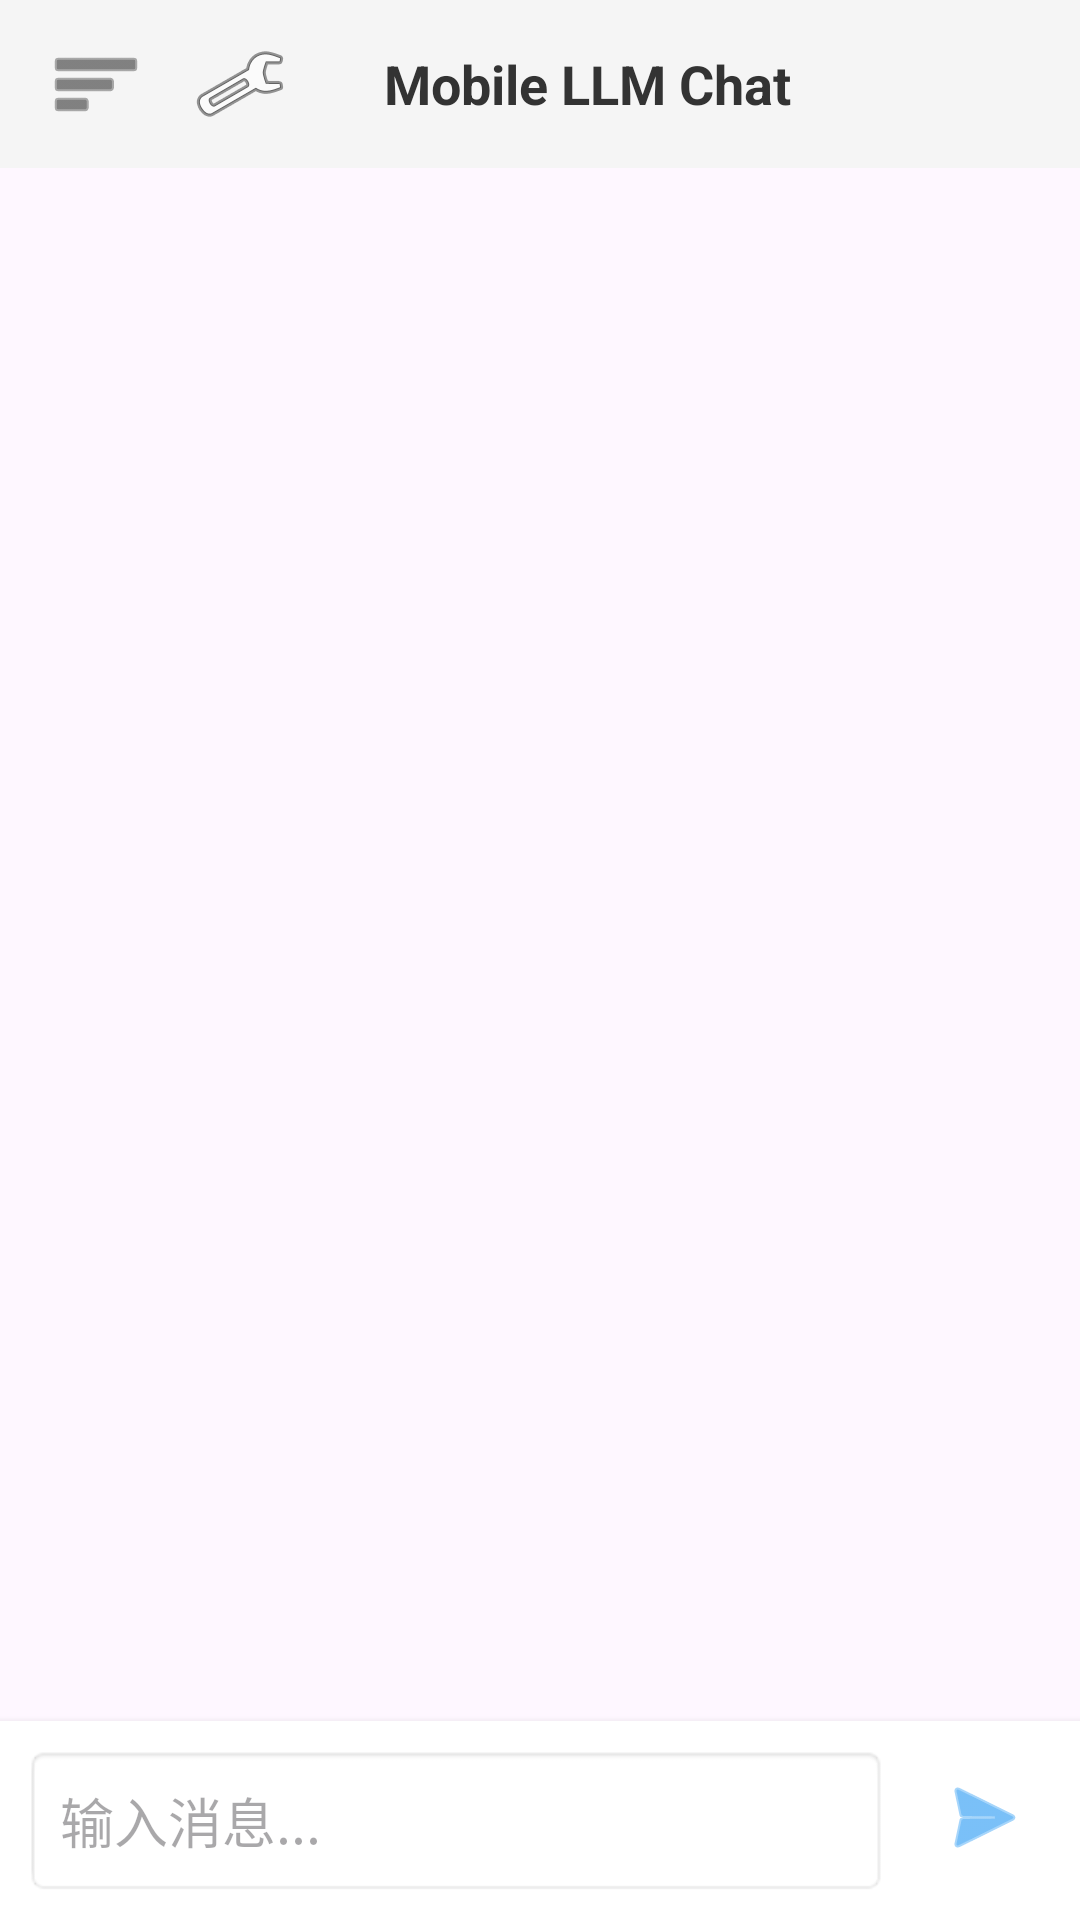

Icon click points for this 1080 x 1920 phone screenshot, format [x,y]:
send: [985,1817]
sort by size: [96,84]
设置: [240,84]
